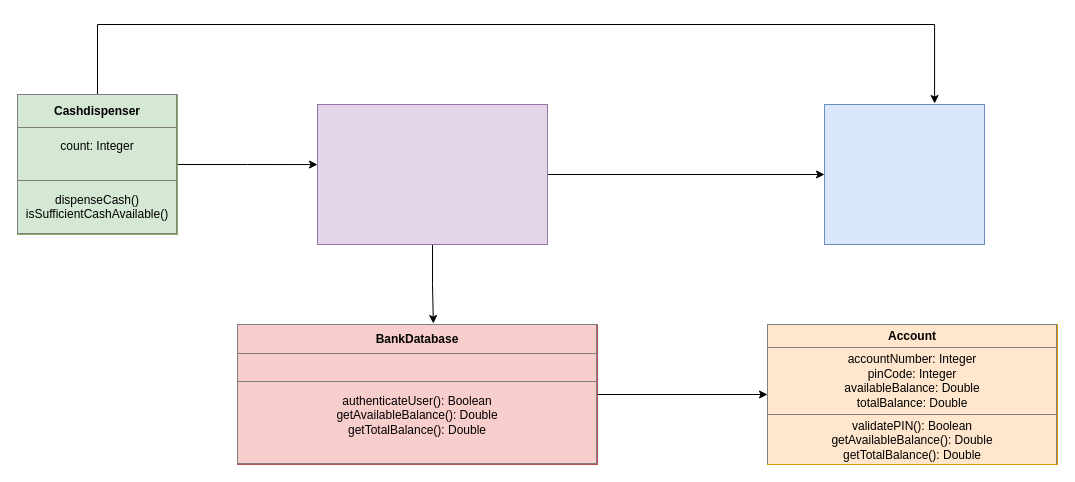
The diagram is 1075 pixels wide and 482 high, and some of its shapes have lost their labels. Here are the shapes that lost their labels. From the top down, the box of each, then its label:
(316, 104, 548, 244): ATM userAuthenticated: boolean = false
(824, 104, 984, 244): Wittdrawal accountNumber: Integer amount: Double execute()
